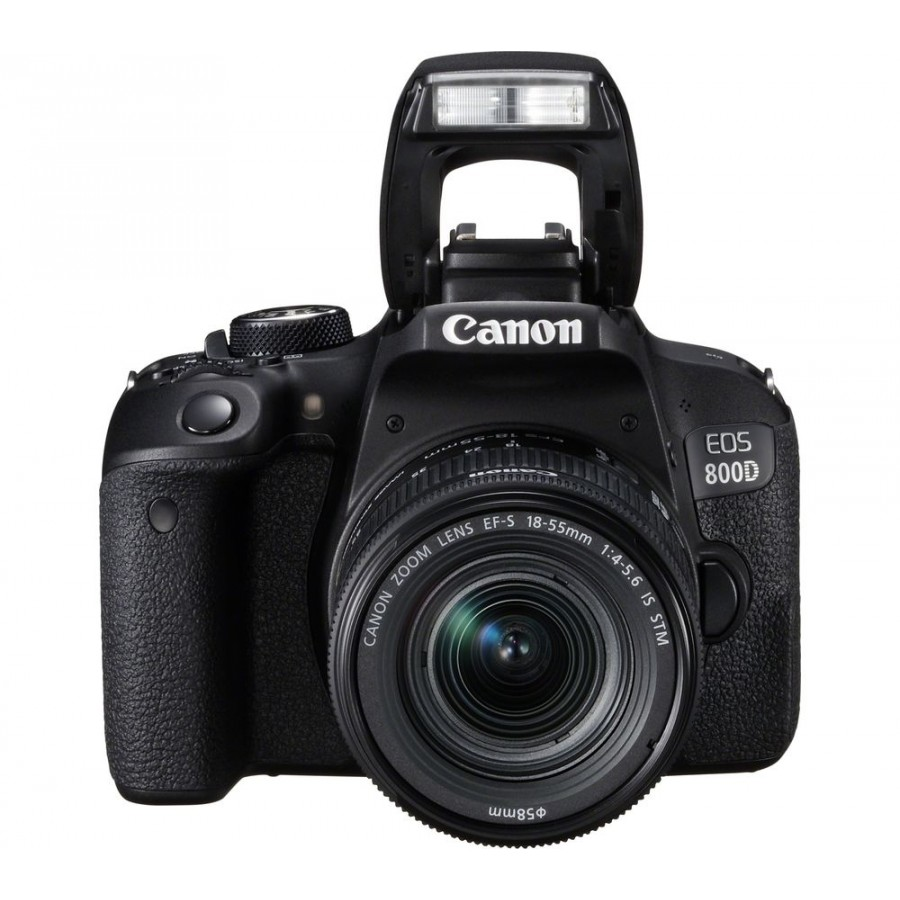kamera: (84, 37, 826, 873)
